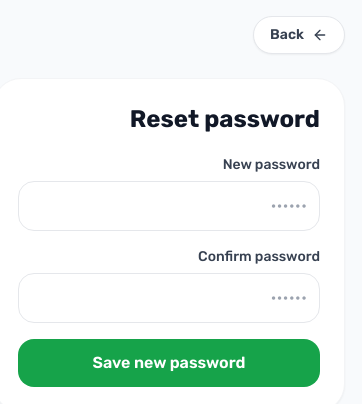
Scenario: ResetPasswordPage › submits a new password and shows success
Check: the button "Save new password" is shown, box [18, 339, 320, 387]
Type "secret12" into the password field with placeholder "••••••" at [169, 206], box [18, 181, 320, 231]
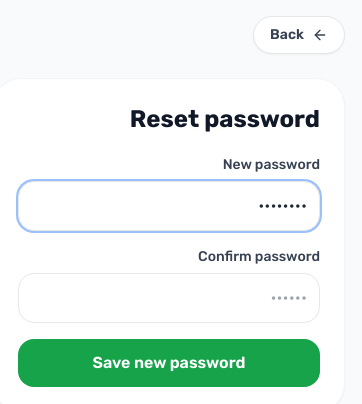
Type "secret12" into the password field with placeholder "••••••" at [169, 298], box [18, 273, 320, 323]
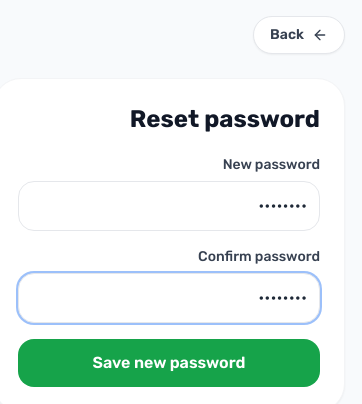
Click the button "Save new password" at [169, 363], box [18, 339, 320, 387]
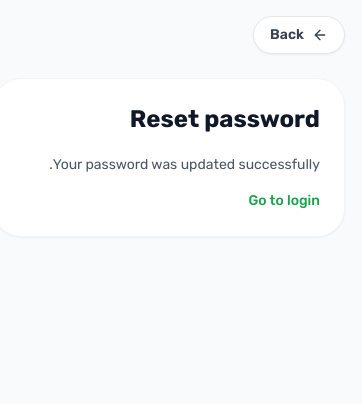
Check: the text "Your password was updated successfully." is shown, box [18, 155, 320, 175]
